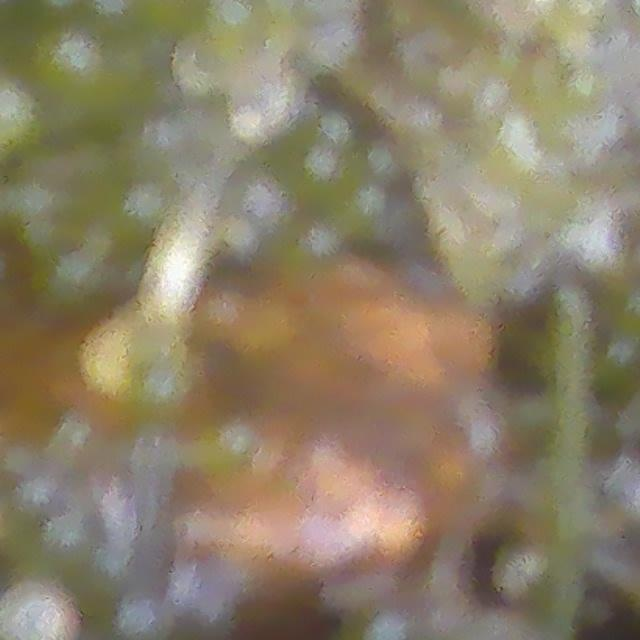SeaGrape: (0, 585, 71, 640), (0, 78, 43, 152)
